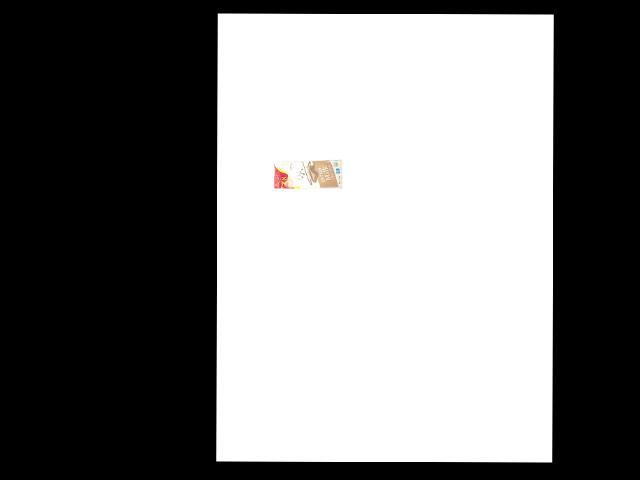chocolate: (272, 158, 340, 191)
